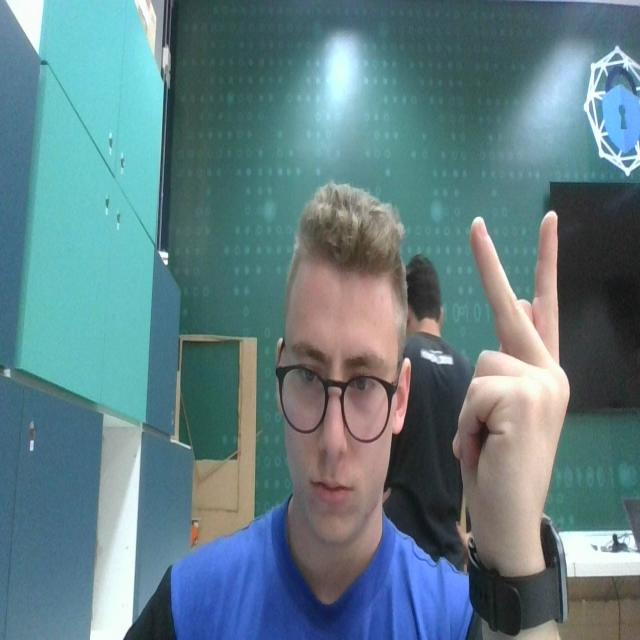K: (450, 198, 573, 548)
